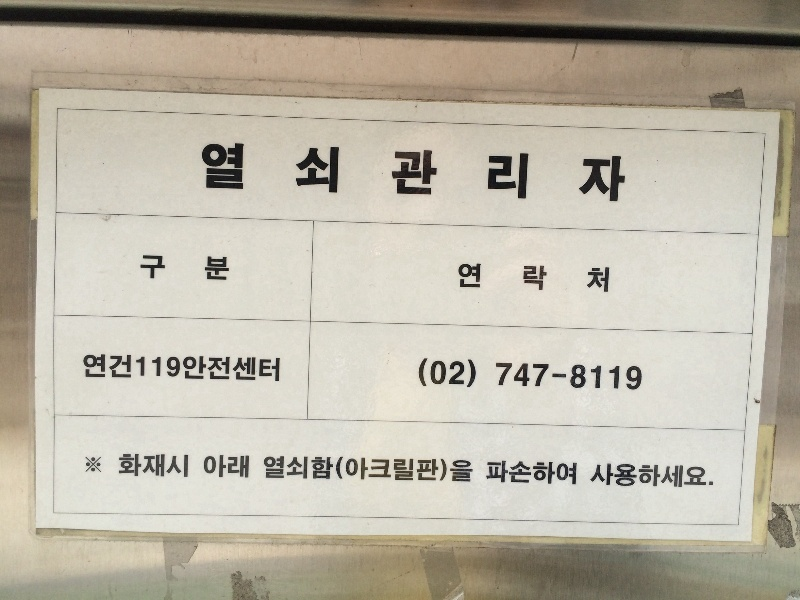text: (209, 141, 224, 208), (225, 141, 240, 208), (241, 141, 256, 208), (257, 141, 272, 208), (273, 141, 288, 208), (289, 141, 304, 208), (305, 141, 320, 208), (321, 141, 336, 208), (337, 141, 352, 208), (353, 141, 368, 208), (369, 141, 384, 208), (385, 141, 400, 208), (401, 141, 416, 208), (417, 141, 432, 208), (433, 141, 448, 208), (449, 141, 464, 208), (465, 141, 480, 208), (481, 141, 496, 208), (497, 141, 512, 208), (513, 141, 528, 208), (529, 141, 544, 208), (545, 141, 560, 208), (561, 141, 576, 208), (577, 141, 592, 208), (593, 141, 608, 208), (609, 141, 624, 208), (273, 448, 288, 490), (289, 448, 304, 490), (305, 448, 320, 490), (113, 447, 128, 484), (129, 447, 144, 484), (145, 447, 160, 484), (161, 447, 176, 484), (177, 447, 192, 484), (321, 448, 334, 490), (193, 352, 208, 388), (209, 352, 224, 388), (225, 352, 240, 388), (241, 352, 256, 388), (257, 352, 272, 388), (209, 448, 224, 484), (225, 448, 240, 484), (81, 350, 96, 385), (97, 350, 112, 385), (113, 350, 128, 385), (145, 350, 160, 385), (161, 350, 176, 385), (465, 260, 480, 294), (481, 260, 496, 294), (497, 260, 512, 294), (513, 260, 528, 294), (529, 260, 544, 294), (545, 260, 560, 294), (561, 260, 576, 294), (577, 260, 592, 294), (593, 260, 608, 294), (433, 356, 448, 390), (449, 356, 464, 390), (465, 356, 480, 390), (337, 452, 352, 486), (353, 452, 368, 486), (369, 452, 384, 486), (385, 452, 400, 486), (401, 452, 416, 486), (417, 452, 432, 486), (433, 452, 448, 486), (260, 448, 272, 490), (577, 363, 592, 396), (593, 363, 608, 396), (609, 363, 624, 396), (625, 363, 640, 396), (497, 458, 512, 491), (513, 458, 528, 491), (529, 458, 544, 491), (545, 458, 560, 491), (561, 458, 576, 491), (497, 360, 512, 392), (513, 360, 528, 392), (529, 360, 544, 392), (241, 448, 254, 484), (593, 462, 608, 492), (609, 462, 624, 492), (625, 462, 640, 492), (641, 462, 656, 492), (657, 462, 672, 492), (673, 462, 688, 492), (689, 462, 704, 492), (145, 254, 160, 283), (161, 254, 176, 283), (177, 254, 192, 283), (193, 254, 208, 283), (209, 254, 224, 283), (420, 356, 432, 390), (484, 458, 496, 491), (450, 458, 464, 485), (705, 462, 717, 492), (183, 352, 192, 388), (273, 352, 282, 388), (465, 458, 475, 485), (204, 141, 208, 208), (568, 363, 576, 396), (201, 448, 208, 484), (137, 350, 144, 385), (177, 350, 184, 385), (545, 360, 552, 392), (225, 254, 232, 283), (577, 458, 583, 491), (75, 350, 80, 385), (129, 350, 134, 385), (460, 260, 464, 294), (609, 260, 613, 294), (551, 369, 560, 384), (561, 369, 570, 384), (625, 141, 627, 208), (641, 363, 645, 396), (141, 254, 144, 283), (590, 462, 592, 492), (193, 447, 194, 484), (449, 452, 450, 486)
